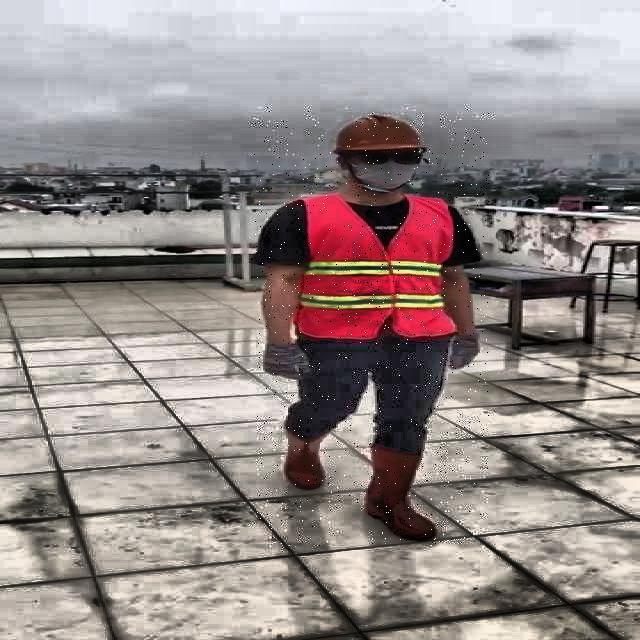safety_helmet: (332, 110, 420, 153)
safety_jacket: (288, 196, 455, 338)
